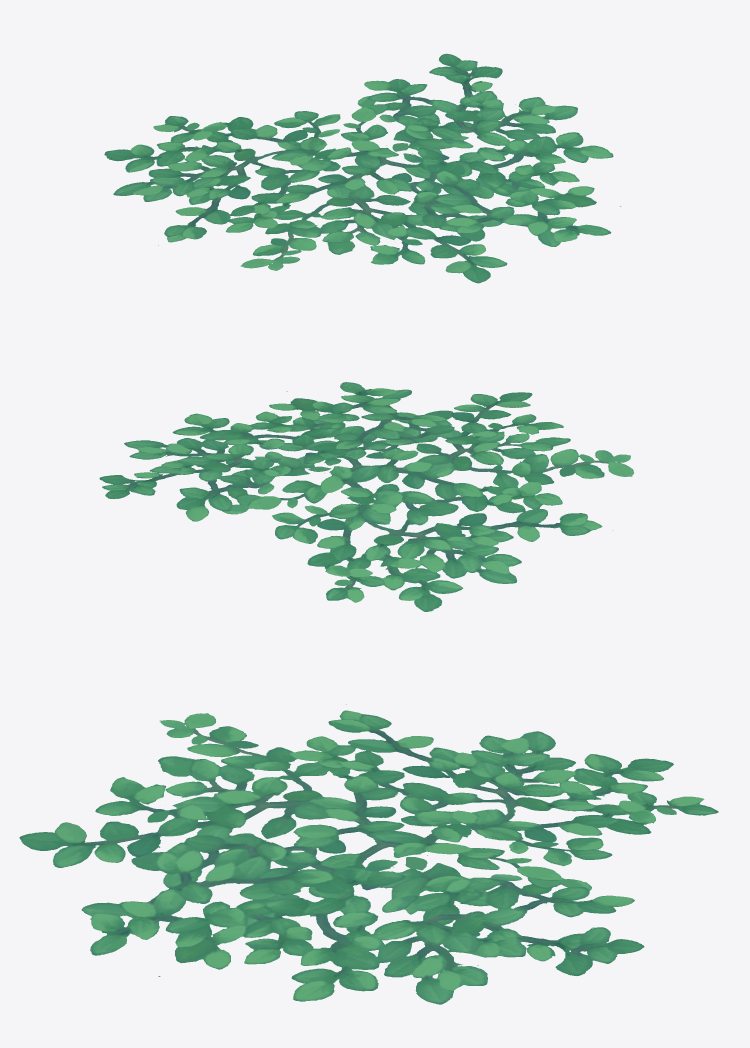
The model's file is danpian_yezi.fbx.
The picture shows the model from 3 angles, top to bottom: view 1: azimuth 30°, elevation 25°; view 2: azimuth 150°, elevation 25°; view 3: azimuth 270°, elevation 25°; orthographic projection. The views are drawn at different scales.
Parts seen in each view (by area): view 1: danpian_yezi; view 2: danpian_yezi; view 3: danpian_yezi.
Boxes of the visible parts, bbox=[...] form: danpian_yezi: bbox=[104, 53, 620, 283]; danpian_yezi: bbox=[99, 382, 633, 611]; danpian_yezi: bbox=[19, 704, 718, 1004].
Bounding box in the file's own units: 306 × 21.7 × 306.
1 material, 1 textured.
